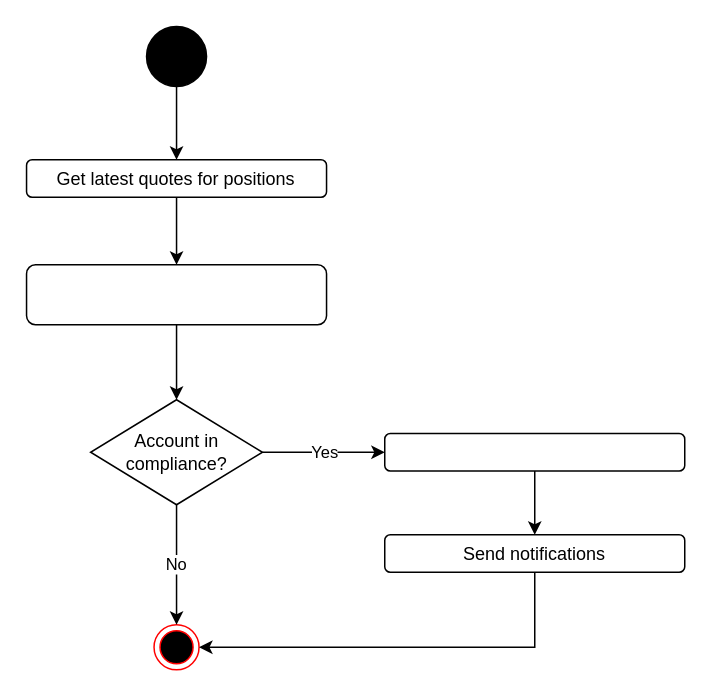
Image size: 711x696. Some labels were removed from this diagram. The shapes that lost their labels are listed below. From the top down, each one's centre as x and y in pixels, then its label:
At pixel 176 294: "Update margin requirements and equity".
At pixel 534 451: "Apply restrictions".
